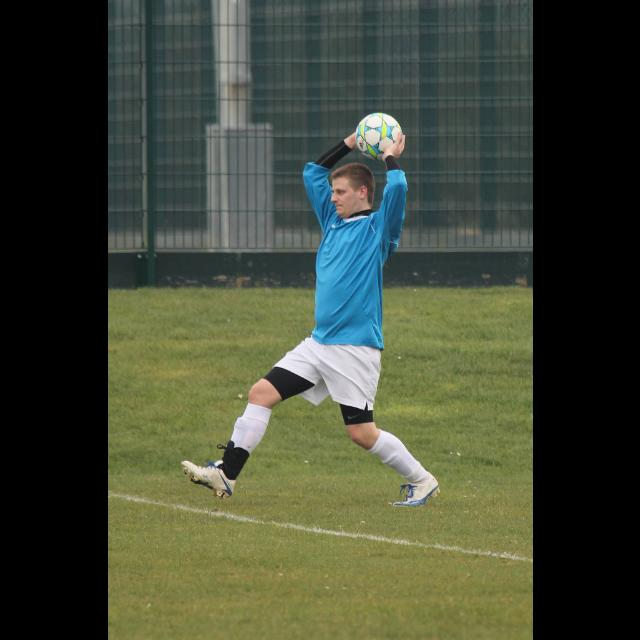Football: (349, 112, 401, 156)
